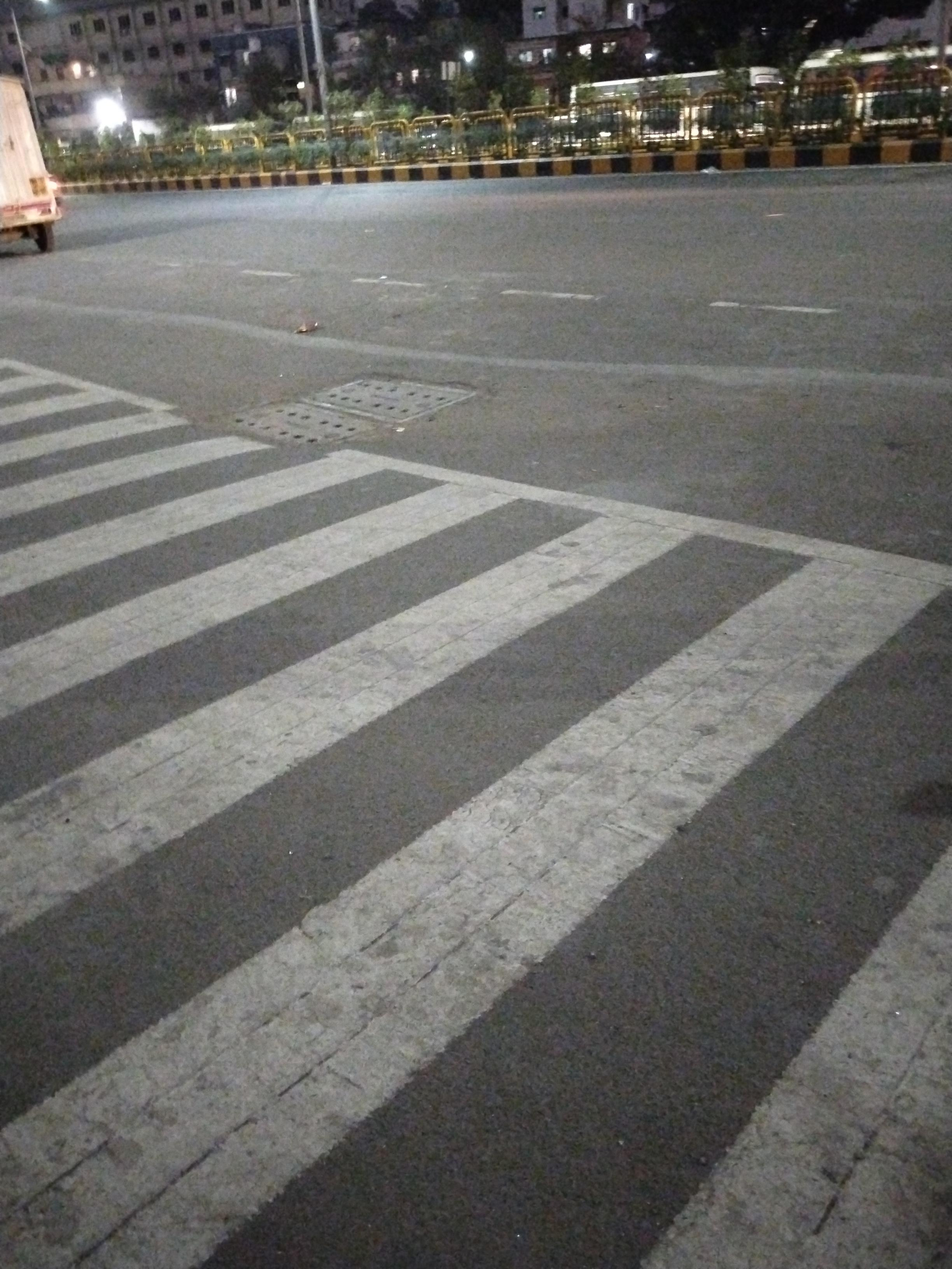crosswalk: (11, 354, 945, 1269)
